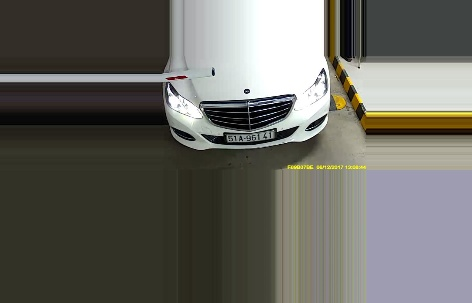plate: (224, 128, 275, 142)
